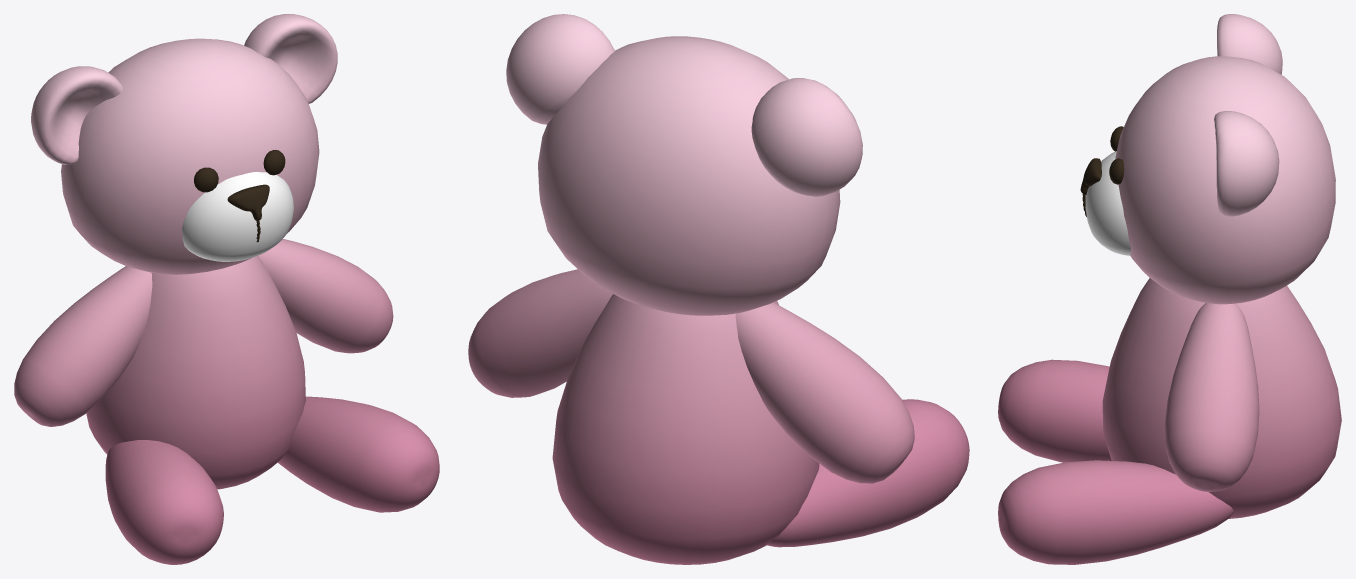
Rendered from SM_prop_Stage1_TeddyBear.fbx.
The picture shows the model from 3 angles, left to right: view 1: azimuth 30°, elevation 25°; view 2: azimuth 150°, elevation 25°; view 3: azimuth 270°, elevation 25°; orthographic projection. The views are drawn at different scales.
Visible parts, largest first — view 1: SM_prop_Stage1_TeddyBear; view 2: SM_prop_Stage1_TeddyBear; view 3: SM_prop_Stage1_TeddyBear.
Part boxes in pixels (box(x1,y1,x2,y2)): SM_prop_Stage1_TeddyBear: box(14, 14, 439, 564); SM_prop_Stage1_TeddyBear: box(468, 14, 969, 564); SM_prop_Stage1_TeddyBear: box(998, 14, 1341, 564).
Bounding box in the file's own units: 44.97 × 50.46 × 35.67.
Materials: 1 (1 with a texture image).
